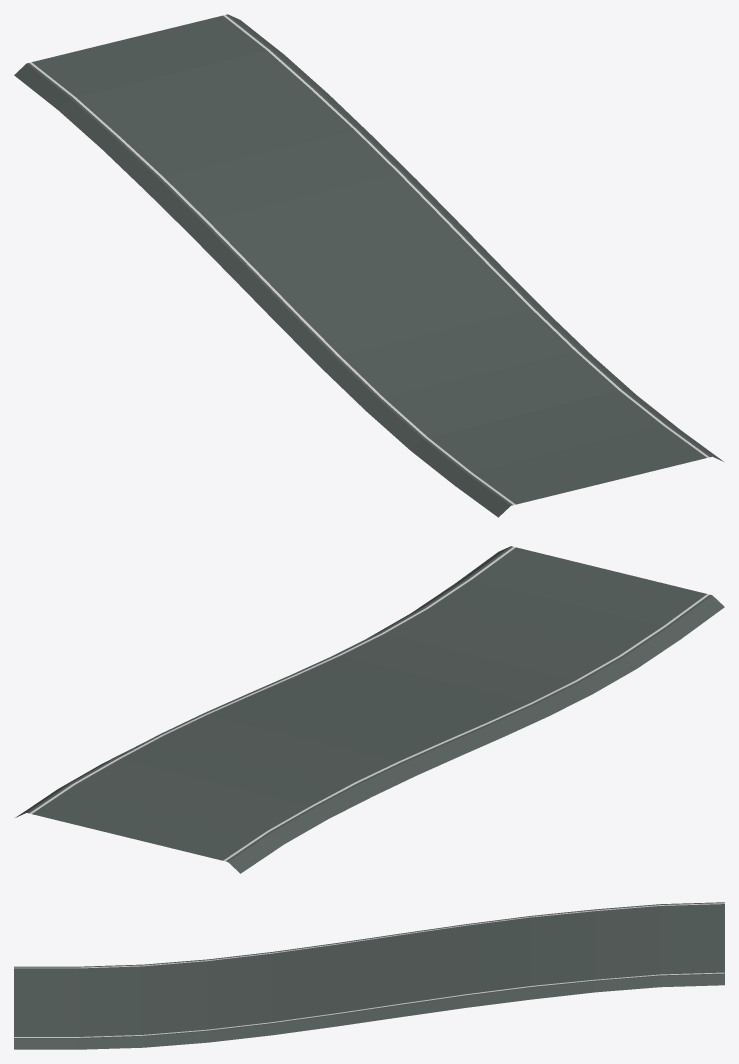
File: Straight_Hill.fbx
The picture shows the model from 3 angles, top to bottom: view 1: azimuth 30°, elevation 25°; view 2: azimuth 150°, elevation 25°; view 3: azimuth 270°, elevation 25°; orthographic projection. The views are drawn at different scales.
Visible parts, largest first — view 1: Plane; view 2: Plane; view 3: Plane.
Part boxes in pixels (x1=…): Plane: x1=14, y1=14, x2=723, y2=517; Plane: x1=15, y1=546, x2=724, y2=873; Plane: x1=14, y1=902, x2=724, y2=1049.
Bounding box in the file's own units: 27 × 11 × 100.
